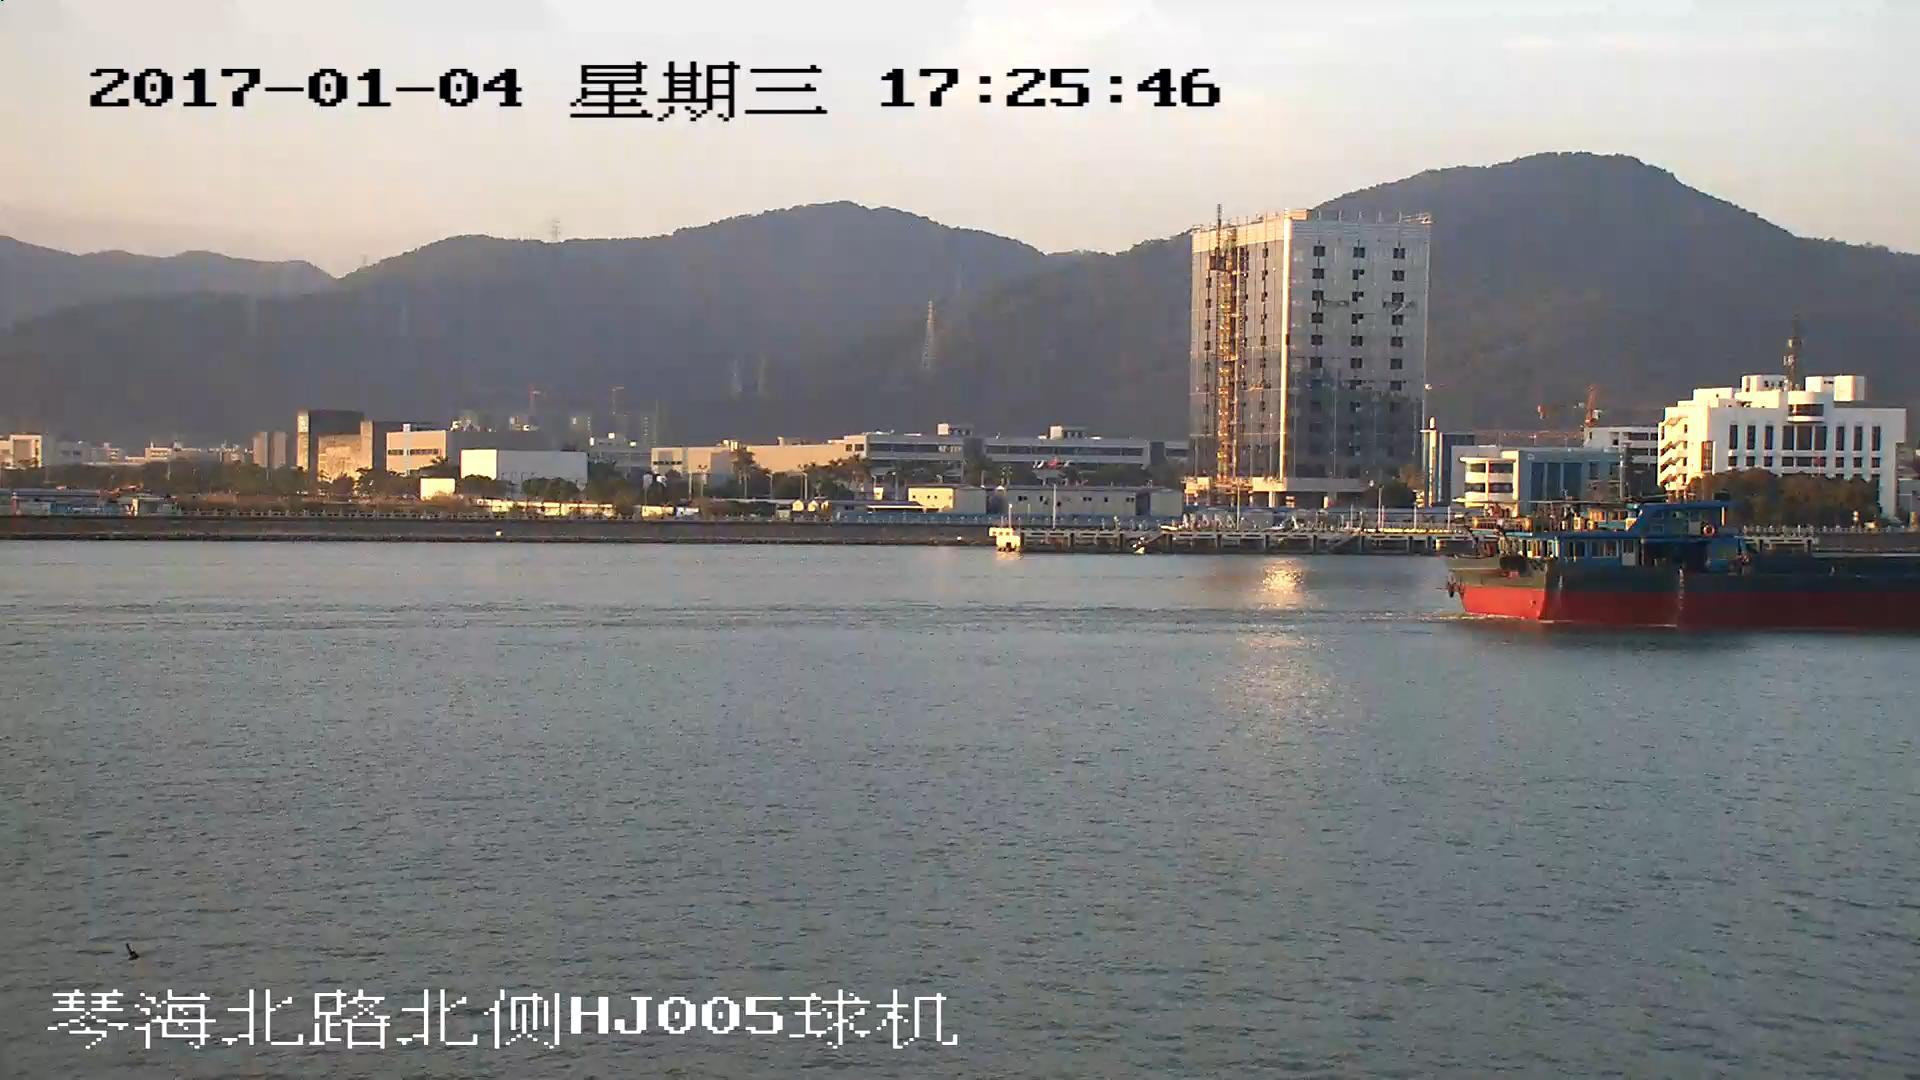Ship: (1448, 506, 1920, 633)
